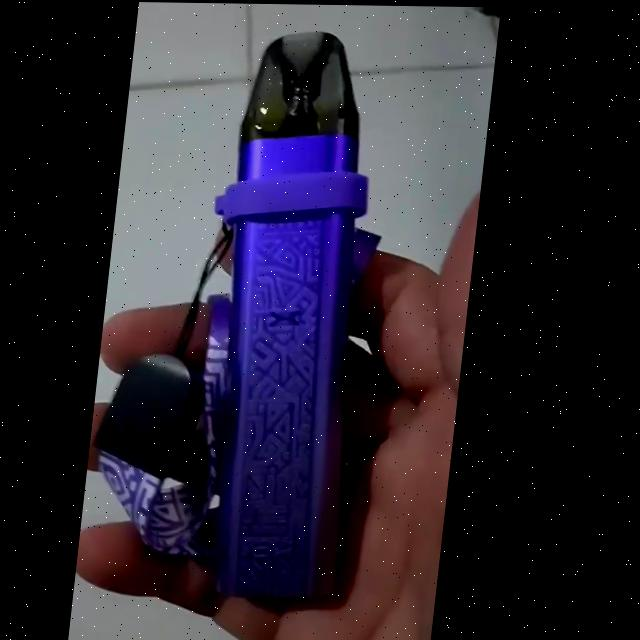vape: (192, 33, 387, 598)
